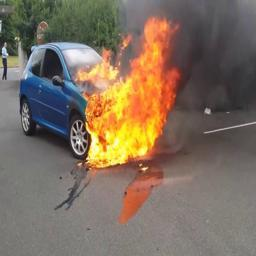fire: (77, 17, 182, 168)
